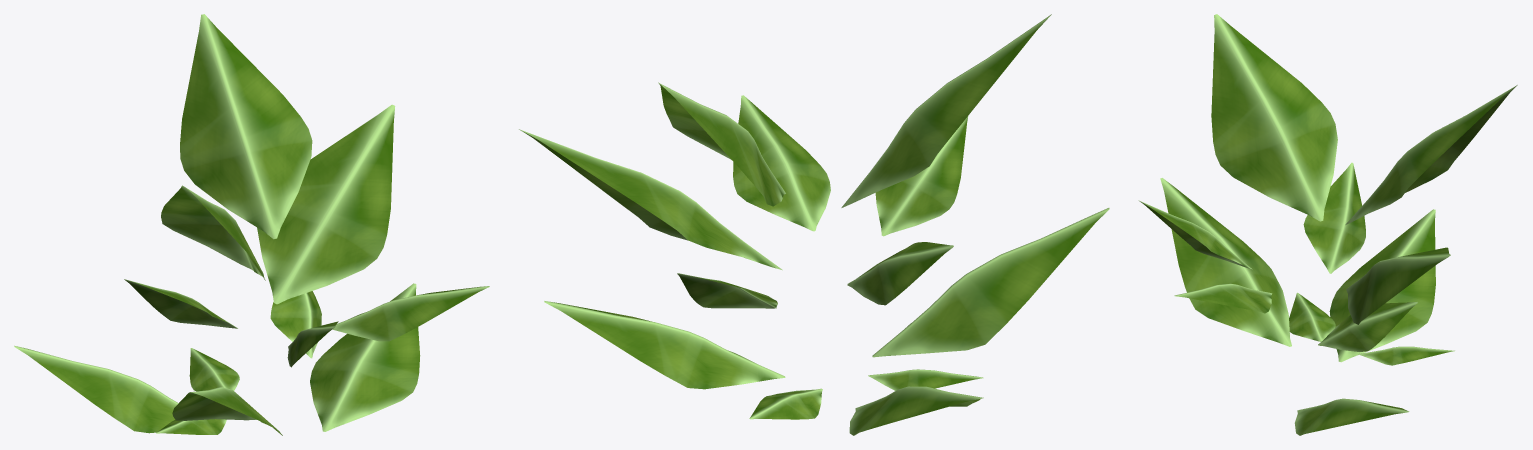
The model's file is plantSmall_leaves.fbx.
3 renders of one model, left to right at view 1: azimuth 30°, elevation 25°; view 2: azimuth 150°, elevation 25°; view 3: azimuth 270°, elevation 25°, orthographic. The views are drawn at different scales.
Parts seen in each view (by area): view 1: polySurface59; view 2: polySurface59; view 3: polySurface59.
Part boxes in pixels (left/top/right/bottom): polySurface59: left=14, top=14, right=489, bottom=435; polySurface59: left=519, top=14, right=1109, bottom=435; polySurface59: left=1138, top=14, right=1517, bottom=435.
Size of the model in its own units: 5316 by 4384 by 4685.
1 material, 1 textured.
